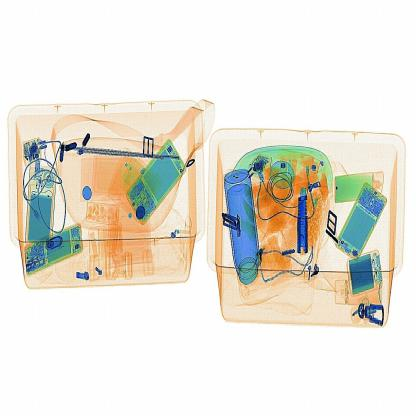pliers: (298, 181, 311, 255)
